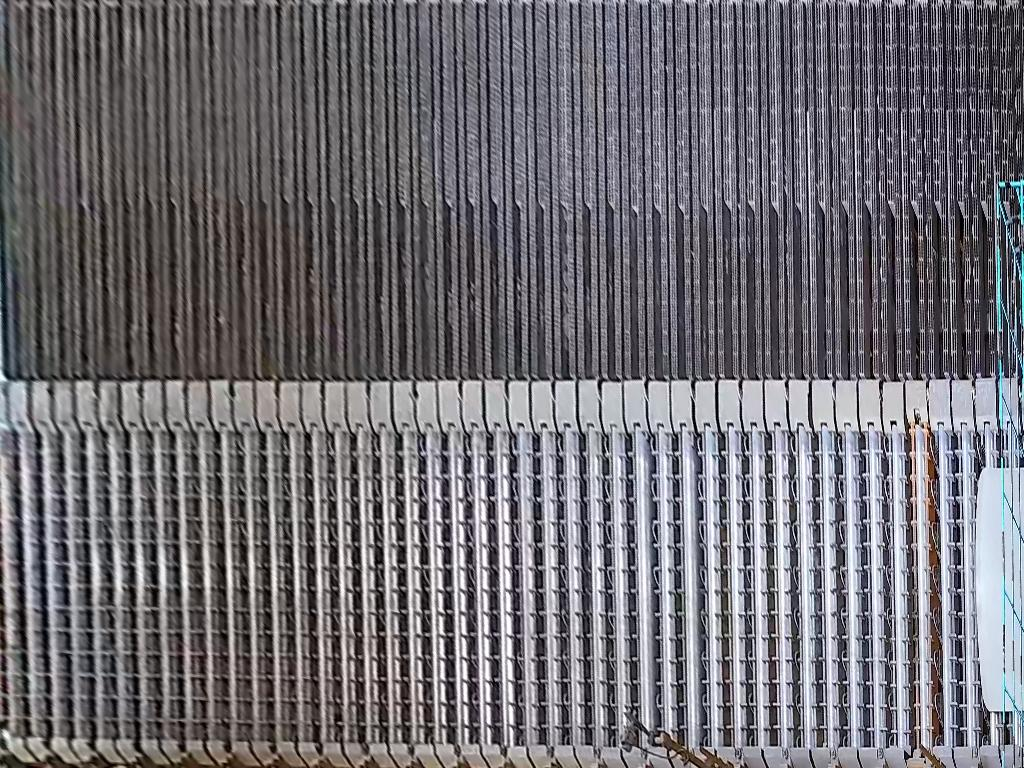steel: (977, 466, 1024, 712)
